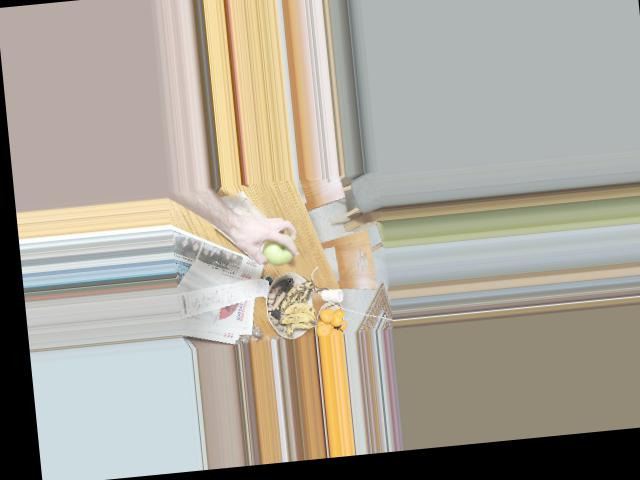apple: (261, 236, 293, 264)
